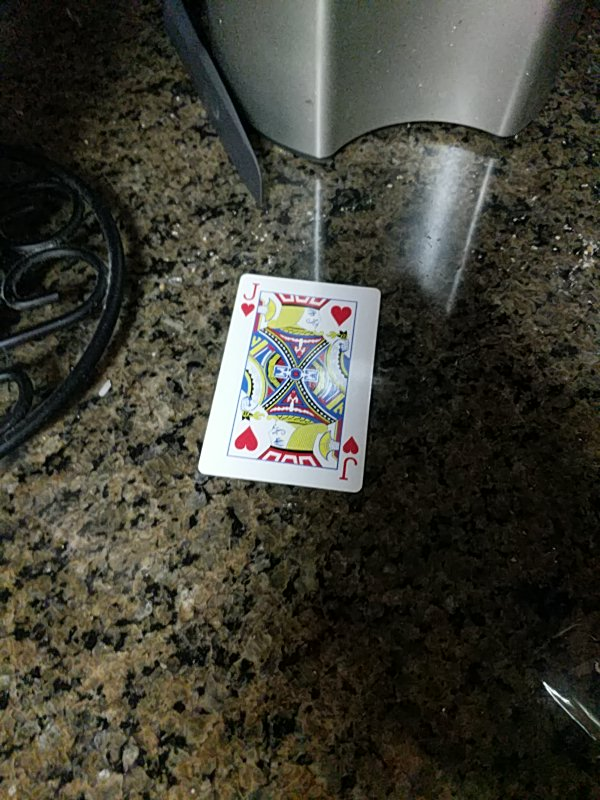Hearts: (195, 275, 383, 493)
